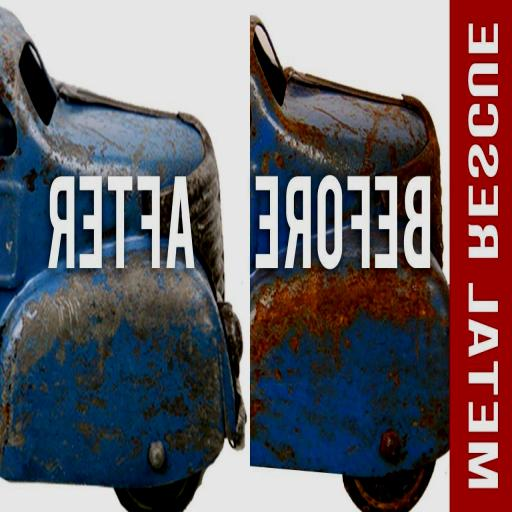segmentation: (5, 261, 224, 486), (256, 261, 447, 481), (444, 0, 510, 492), (250, 38, 435, 178), (25, 169, 36, 191)
